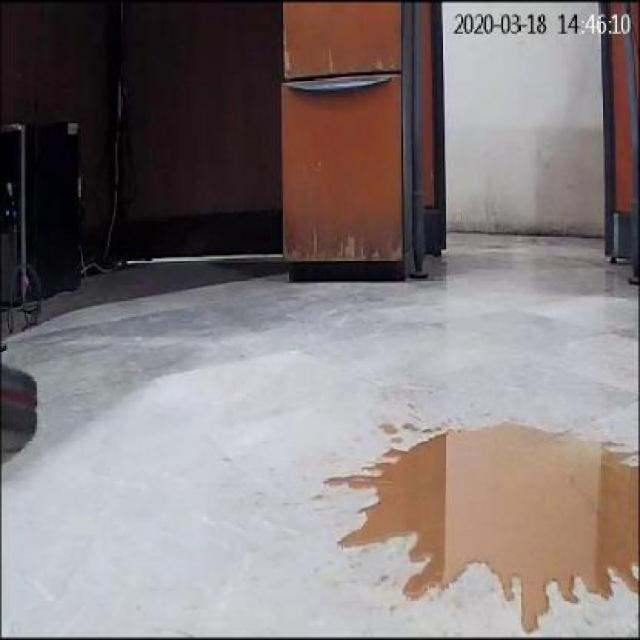spill: (310, 416, 638, 635)
